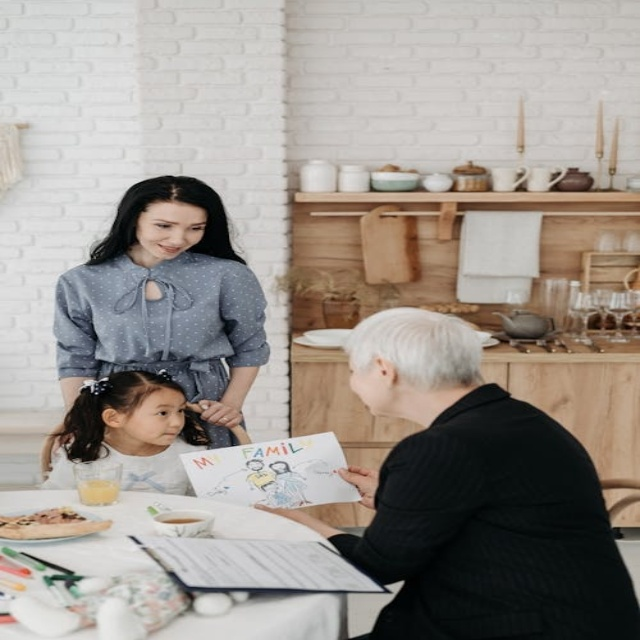Sin_gafas: (145, 215, 207, 236), (136, 401, 187, 420)
Sin_guantes: (339, 462, 376, 502), (197, 396, 242, 426)
Sin_mascara: (145, 239, 188, 261), (145, 429, 183, 445)
